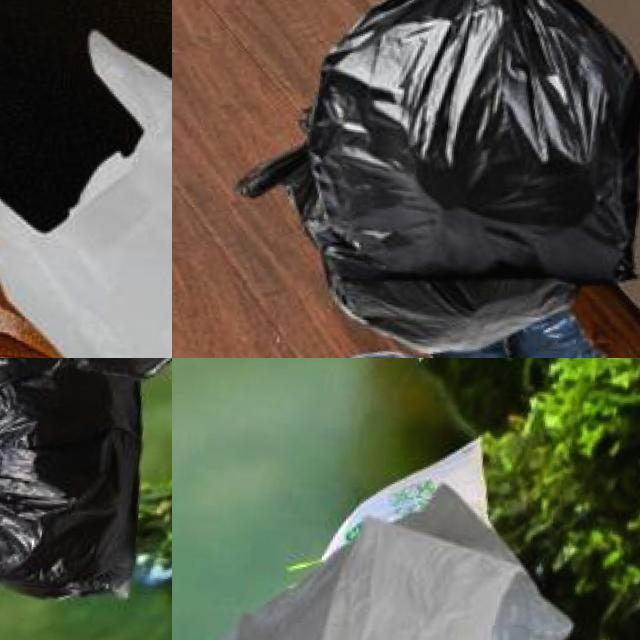waste: (298, 0, 640, 321), (172, 460, 584, 640), (0, 48, 172, 358), (0, 358, 164, 608), (509, 306, 607, 358), (324, 334, 480, 358)
